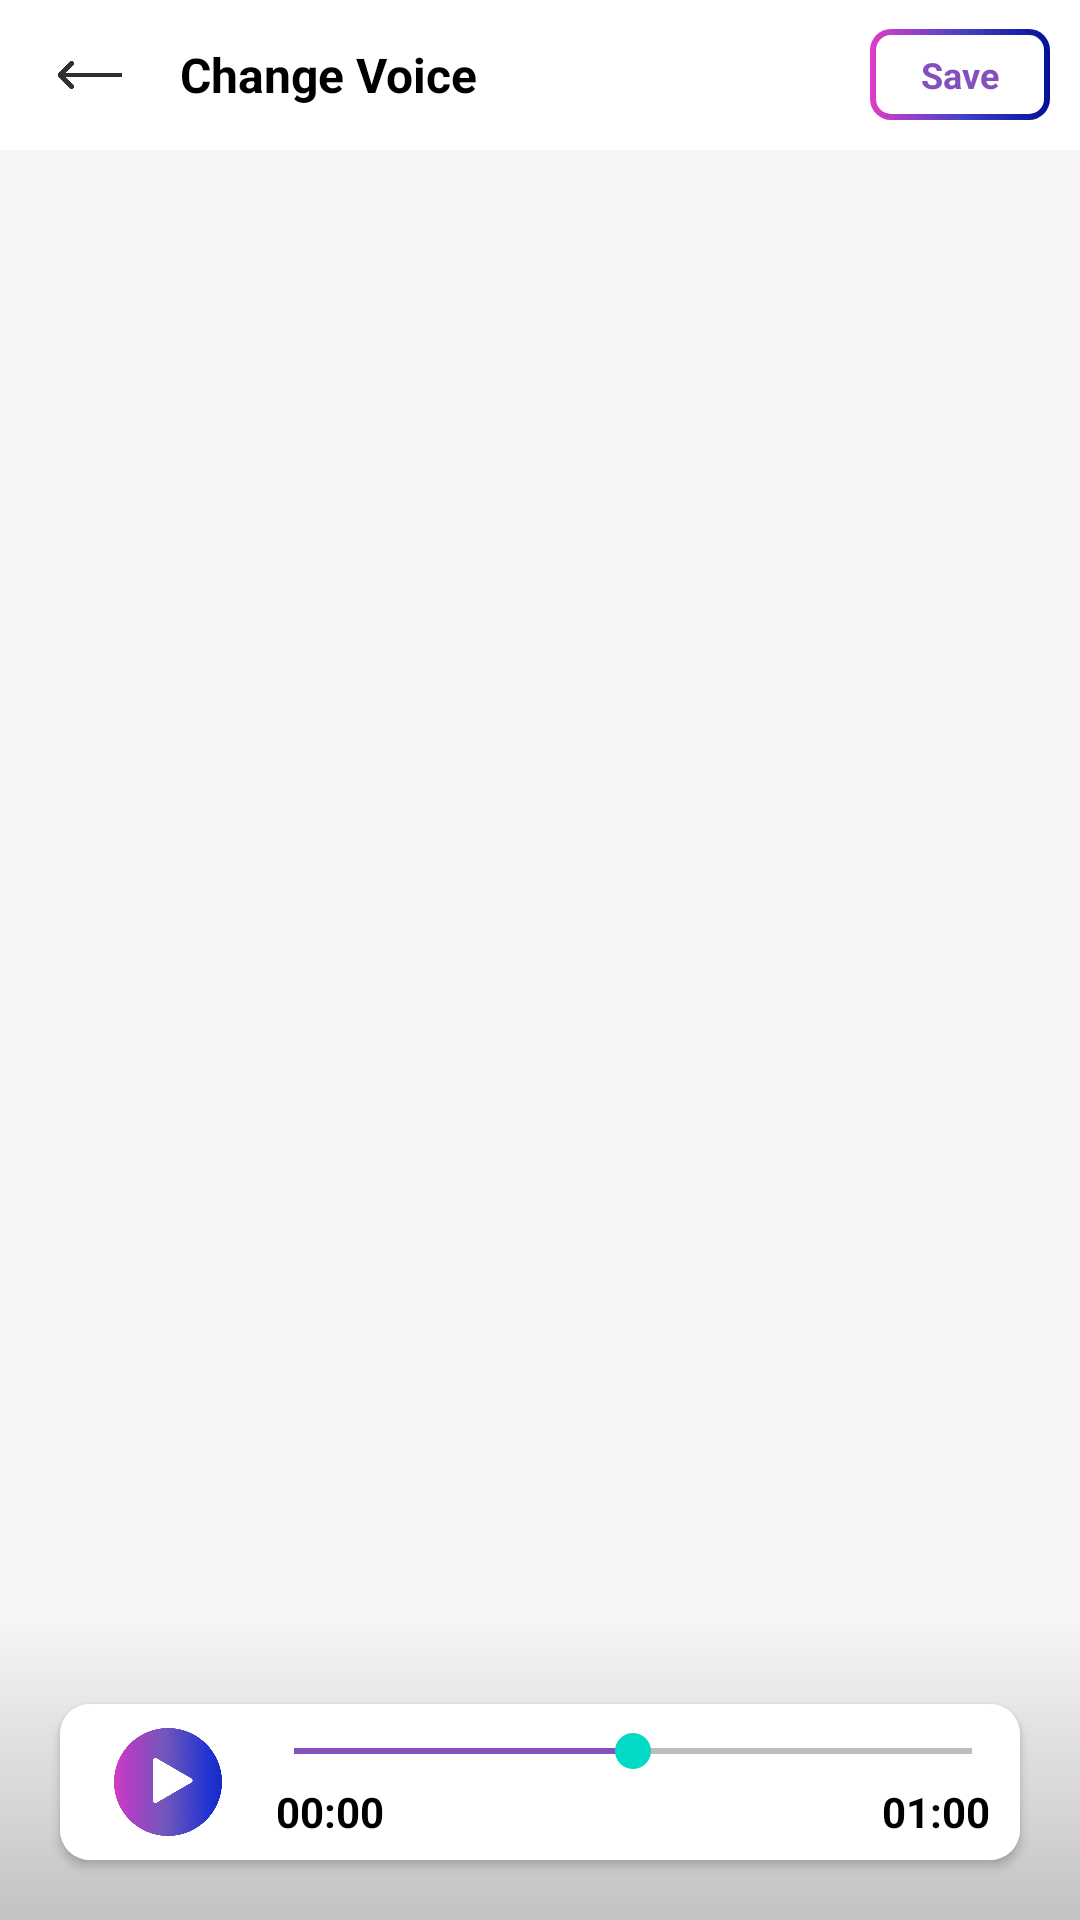

Where to tap for icons on this 1080px x 1920px app screen, as (x=x, y=y):
back: (x=90, y=75)
play: (x=168, y=1782)
